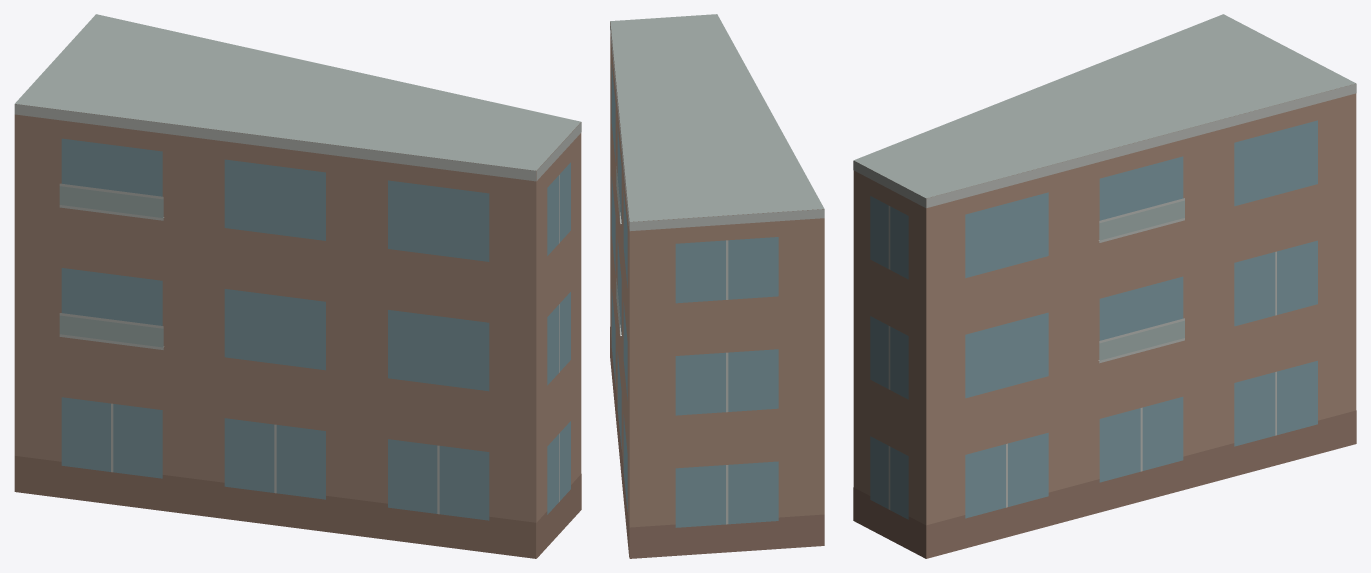
The model's file is survey-upis-32681007.glb.
3 views of the same model, side by side, from view 1: azimuth 30°, elevation 25°; view 2: azimuth 150°, elevation 25°; view 3: azimuth 270°, elevation 25° (orthographic). The views are drawn at different scales.
Visible parts, largest first — view 1: survey-upis-32681007.tmp; view 2: survey-upis-32681007.tmp; view 3: survey-upis-32681007.tmp.
Boxes of the visible parts, left/top/right/bottom form: survey-upis-32681007.tmp: left=14, top=14, right=581, bottom=558; survey-upis-32681007.tmp: left=610, top=14, right=824, bottom=558; survey-upis-32681007.tmp: left=853, top=14, right=1356, bottom=558.
Size of the model in its own units: 9.77 by 8.9 by 11.26.
